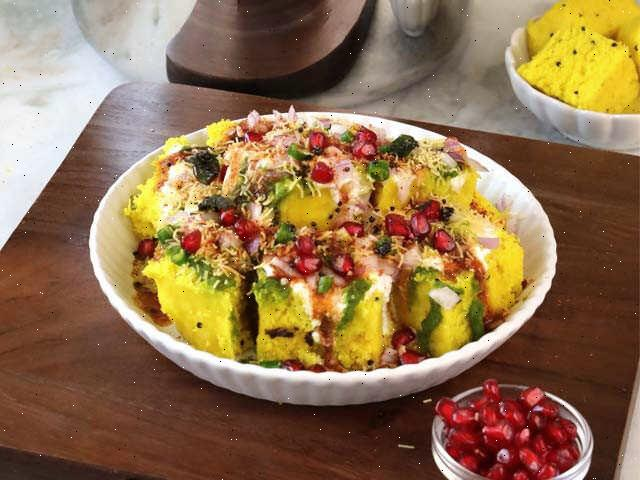yellow dhokla: (123, 122, 554, 381), (514, 4, 640, 115)
